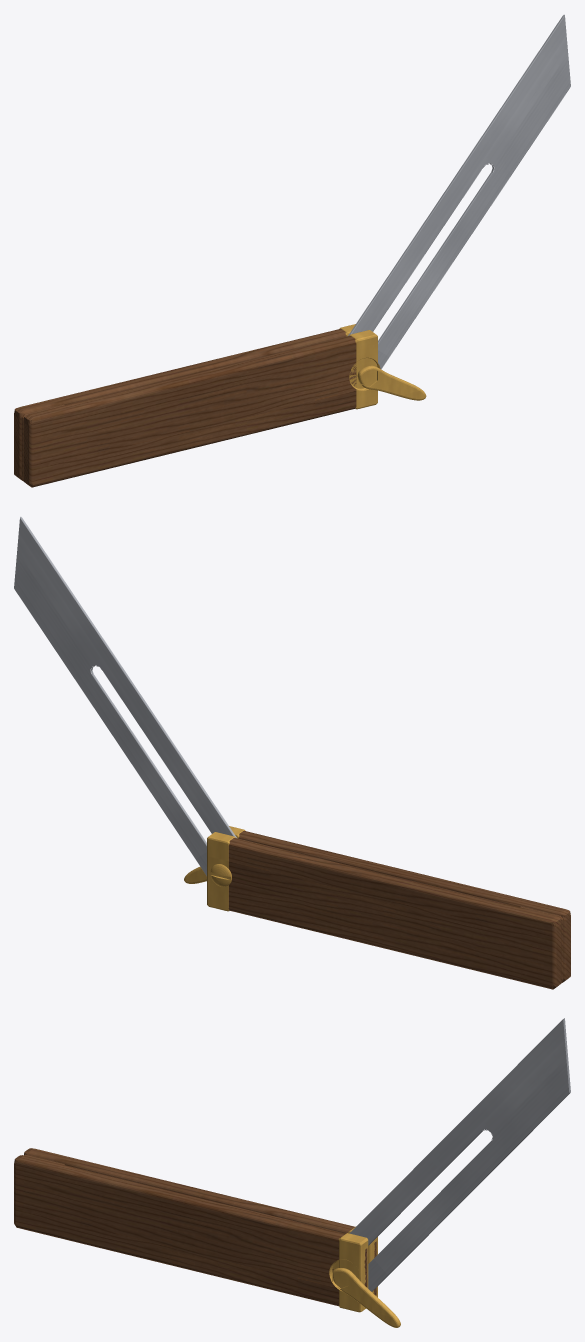
Rendered from falsa_escuadra.glb.
The picture shows the model from 3 angles, top to bottom: view 1: azimuth 30°, elevation 25°; view 2: azimuth 150°, elevation 25°; view 3: azimuth 330°, elevation 25°; orthographic projection.
Visible parts, largest first — view 1: quijada_a, hoja, quijada_b, cantonera_1, palanca; view 2: quijada_b, hoja, quijada_a, cantonera_-1; view 3: quijada_a, hoja, quijada_b, cantonera_1, palanca.
Boxes of the visible parts, bbox=[...] form: quijada_a: bbox=[23, 336, 356, 487]; hoja: bbox=[348, 14, 570, 369]; quijada_b: bbox=[14, 329, 346, 480]; cantonera_1: bbox=[349, 330, 377, 409]; palanca: bbox=[357, 365, 426, 400]; quijada_b: bbox=[228, 838, 561, 989]; hoja: bbox=[14, 516, 236, 875]; quijada_a: bbox=[238, 831, 570, 982]; cantonera_-1: bbox=[207, 832, 235, 911]; quijada_a: bbox=[14, 1155, 367, 1306]; hoja: bbox=[349, 1018, 570, 1291]; quijada_b: bbox=[24, 1148, 376, 1295]; cantonera_1: bbox=[338, 1233, 368, 1312]; palanca: bbox=[333, 1268, 400, 1327].
Bounding box in the file's own units: 0.3307 × 0.1948 × 0.0274.
3 materials, 3 textured.
